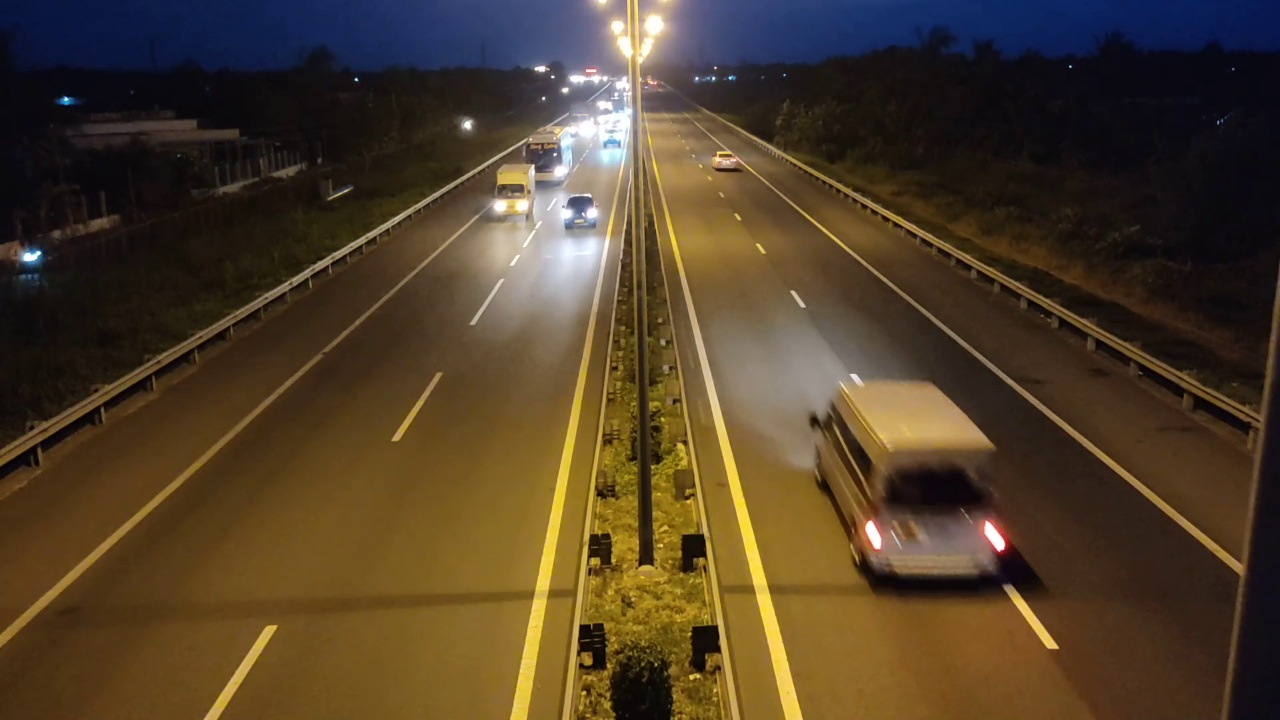car: (561, 193, 600, 231), (711, 151, 741, 172)
truck: (807, 373, 1015, 585)
